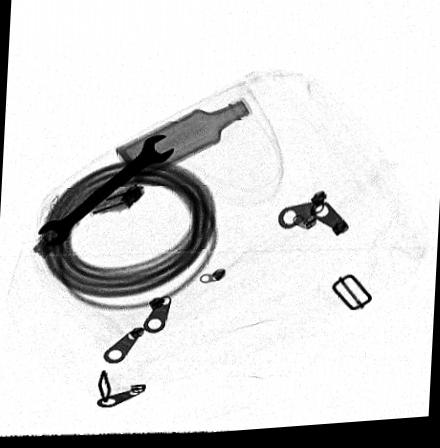Wrench: (38, 137, 175, 248)
